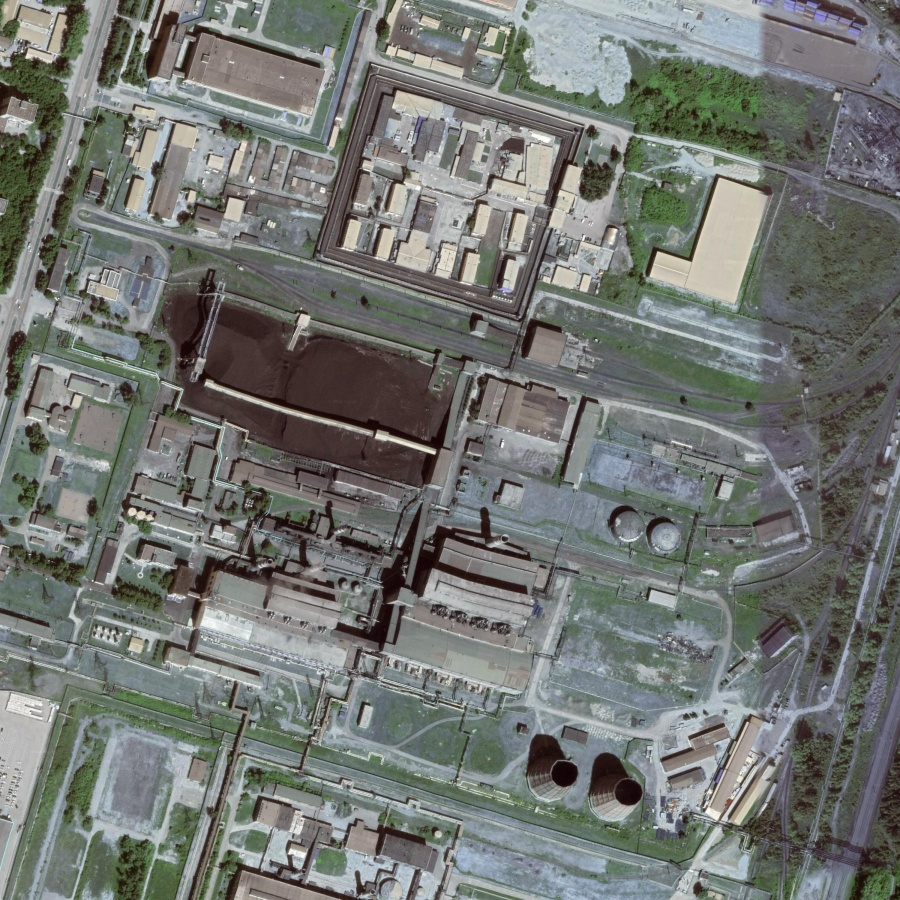PowerPlant: (145, 265, 704, 834)
